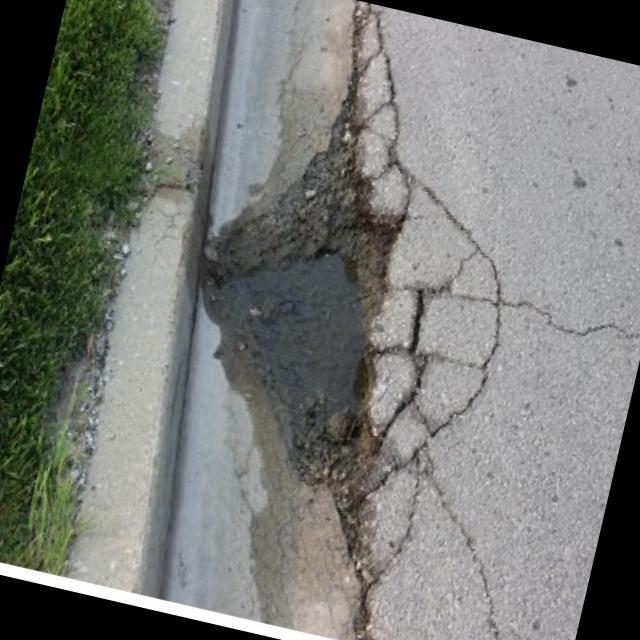Pothole: (176, 142, 426, 486)
